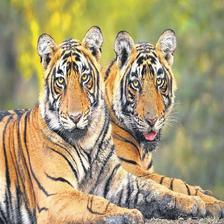tiger: (1, 20, 111, 224), (99, 22, 202, 217)
